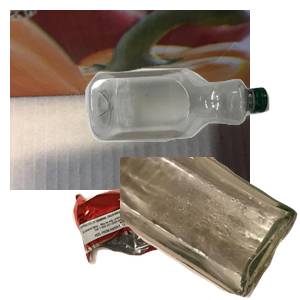cardboard: (10, 10, 250, 190)
glass: (120, 157, 300, 300)
plastic: (83, 66, 300, 201)
trash: (70, 162, 257, 300)
